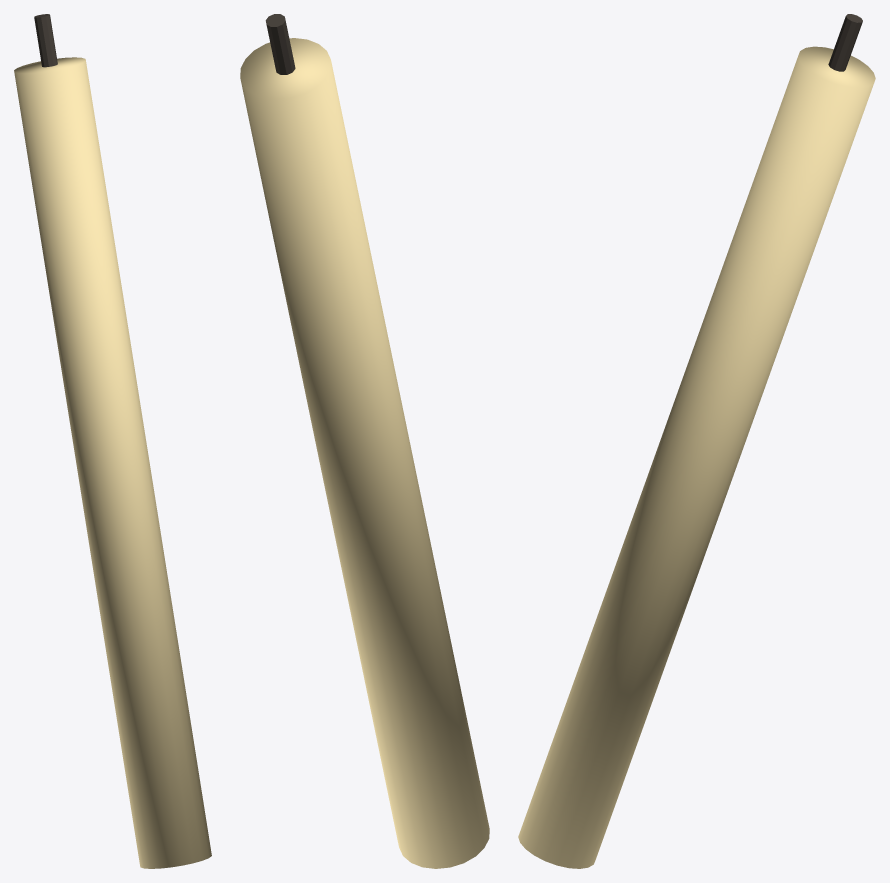
File: fpv_chamash_prop.glb
The picture shows the model from 3 angles, left to right: view 1: azimuth 30°, elevation 25°; view 2: azimuth 150°, elevation 25°; view 3: azimuth 270°, elevation 25°; orthographic projection. The views are drawn at different scales.
Parts seen in each view (by area): view 1: Shamash_Taper, Shamash_Wick; view 2: Shamash_Taper, Shamash_Wick; view 3: Shamash_Taper, Shamash_Wick.
Part boxes in pixels (bbox=[...]): Shamash_Taper: bbox=[14, 57, 211, 868]; Shamash_Wick: bbox=[34, 14, 57, 67]; Shamash_Taper: bbox=[240, 38, 489, 868]; Shamash_Wick: bbox=[265, 14, 295, 74]; Shamash_Taper: bbox=[518, 46, 875, 868]; Shamash_Wick: bbox=[828, 14, 862, 71].
Size of the model in its own units: 0.018 by 0.2055 by 0.0789.
